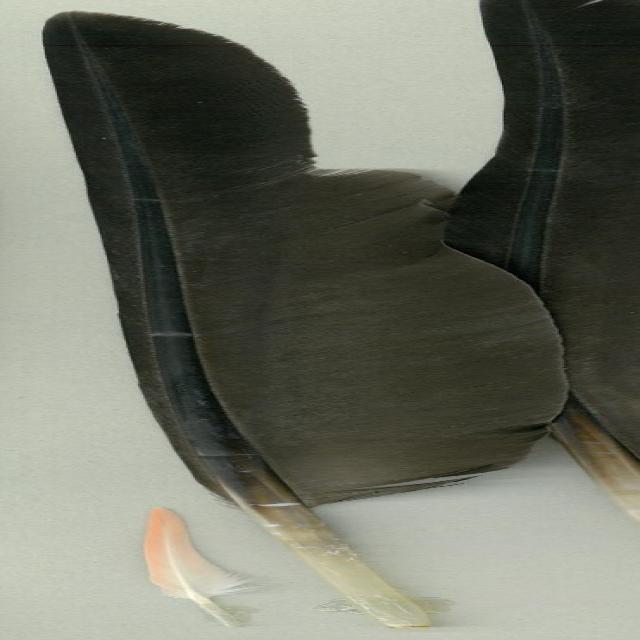feather: (39, 9, 568, 630), (142, 506, 293, 627)
